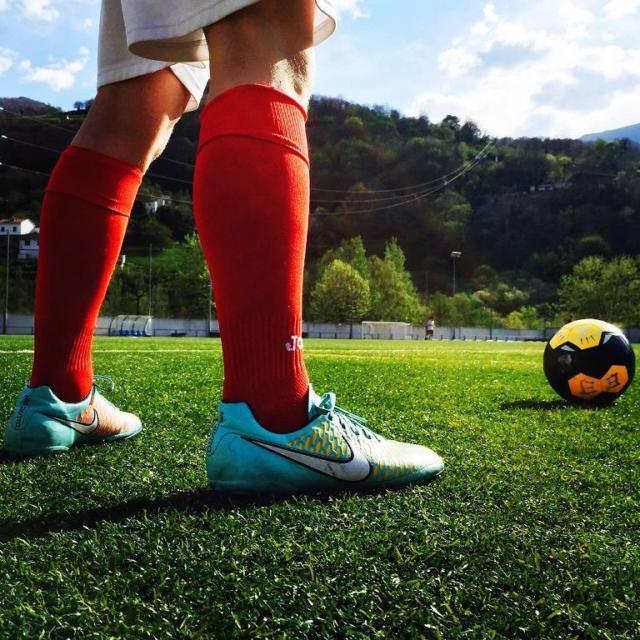football: (549, 317, 632, 427)
